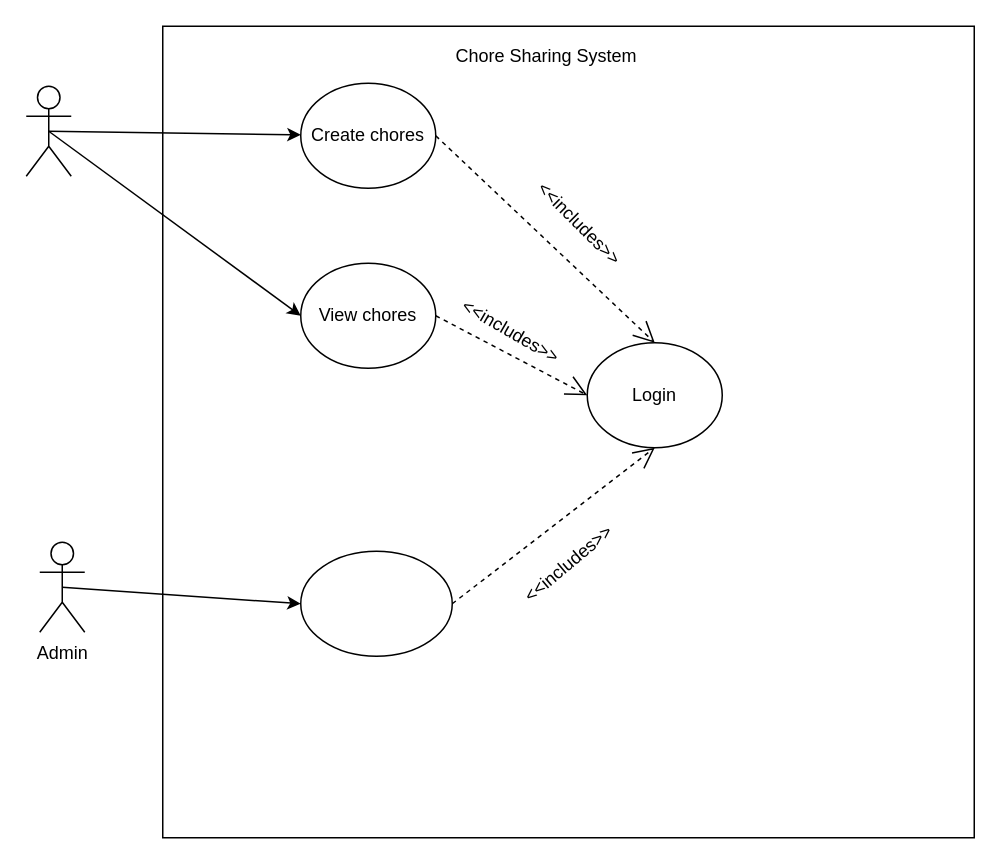
The diagram is 1001 pixels wide and 864 high, and some of its shapes have lost their labels. Each missing label, with the box of its shape:
Manage System: (299, 550, 452, 656)
User: (25, 85, 71, 176)
